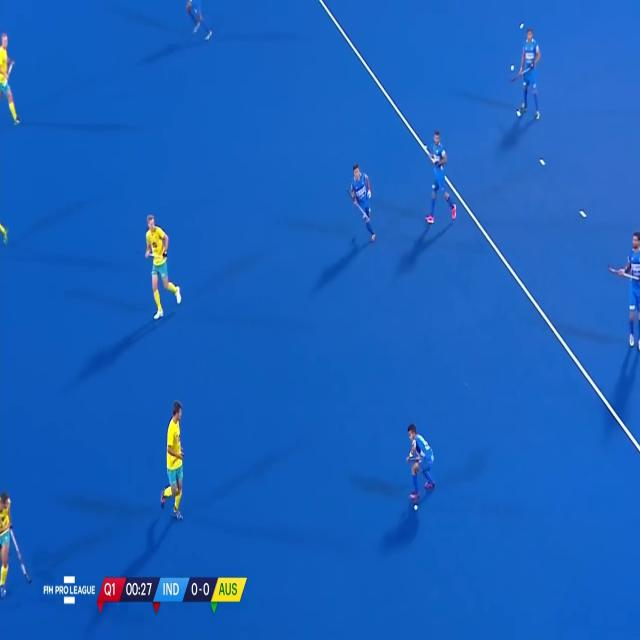ball: (412, 498, 419, 513)
